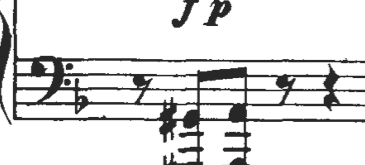bass_clef: (25, 51, 75, 108)
flat: (71, 76, 92, 118)
